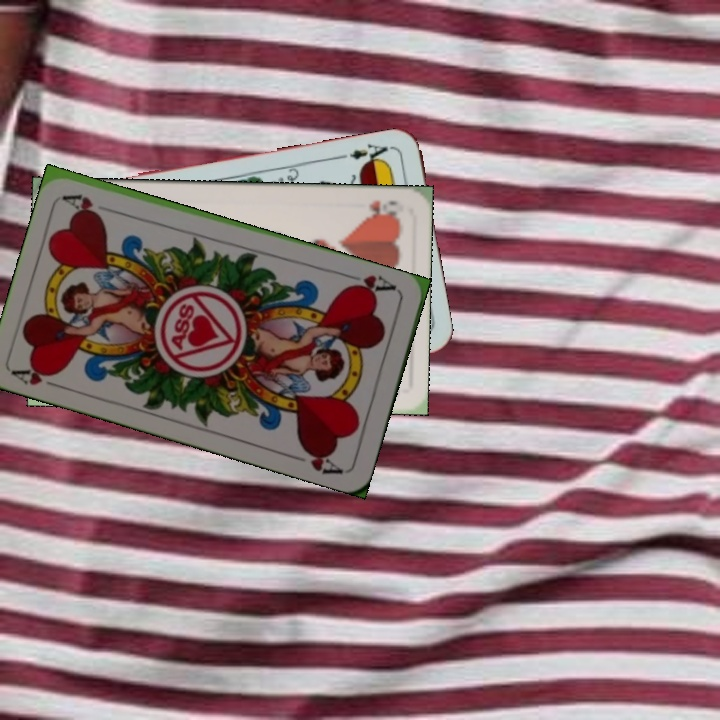EA: (345, 139, 395, 169)
HA: (10, 361, 68, 392), (340, 270, 399, 298)
HO: (360, 196, 404, 220)
